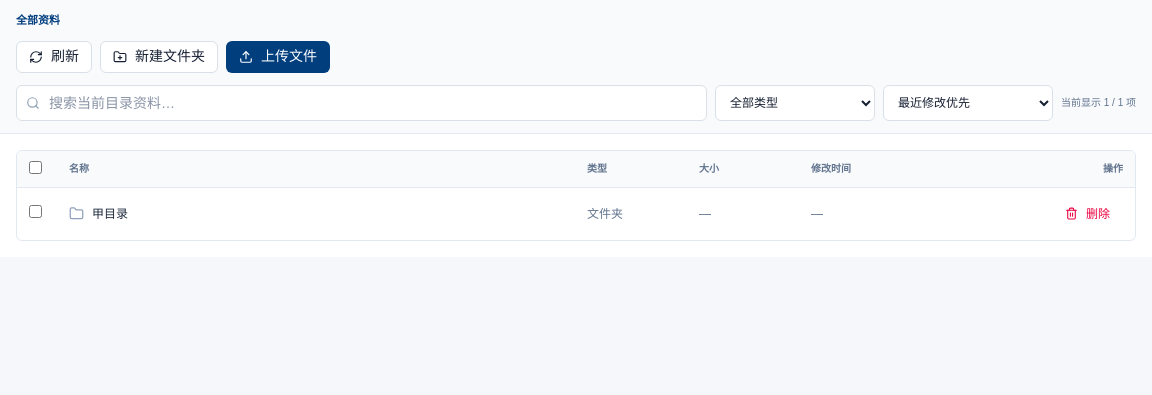
Scenario: research library directory request ordering › ignores a late success (including its truncated flag) after returning to root
The width and height of the screenshot is (1152, 395).
Click the button "甲目录": (98, 214) [69,206,128,222]
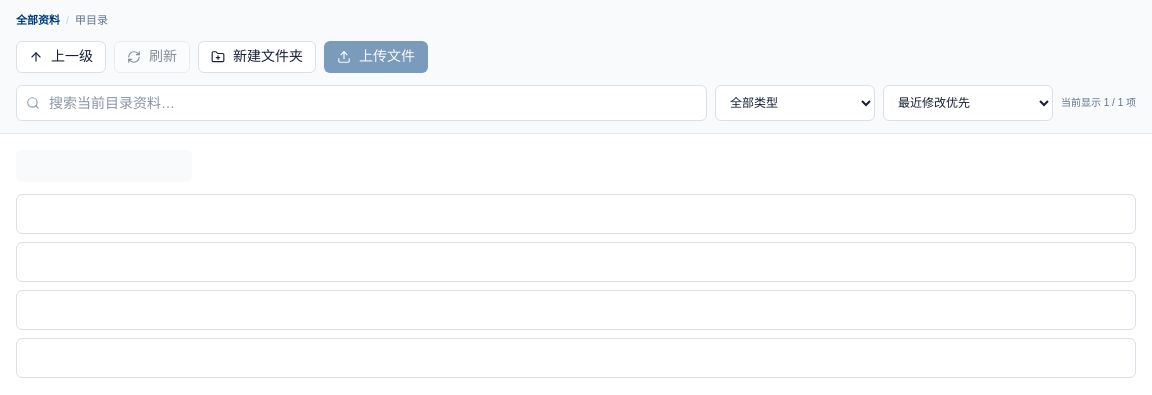
Click the button "全部资料": (38, 20) [16,12,60,28]
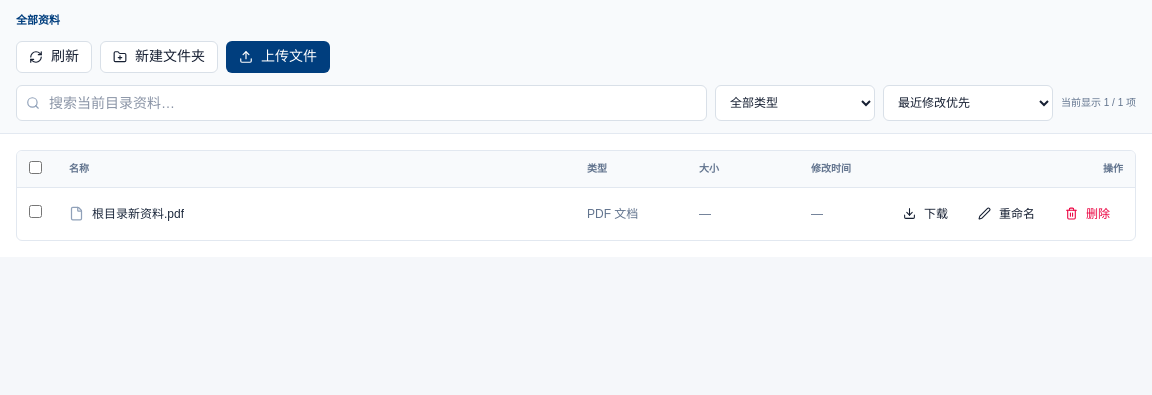
Expected: the text "根目录新资料.pdf" is shown, [92,206,184,222]
